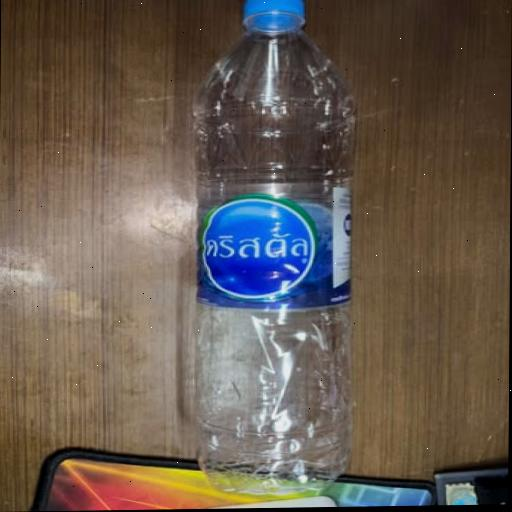bottle: (177, 0, 370, 505)
